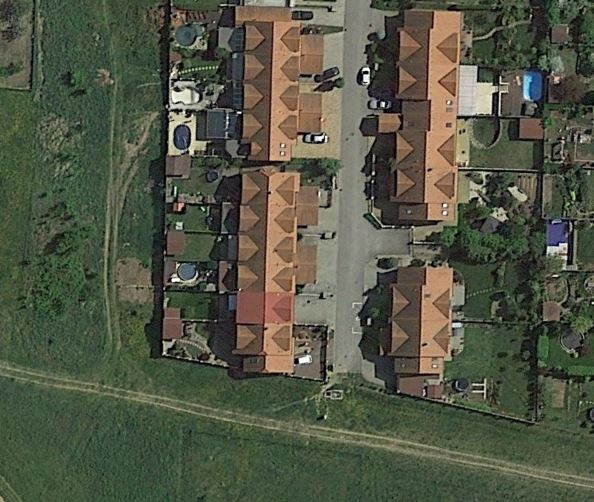terrace house: (363, 6, 474, 230), (235, 168, 309, 382), (232, 2, 325, 163), (372, 261, 462, 392)
